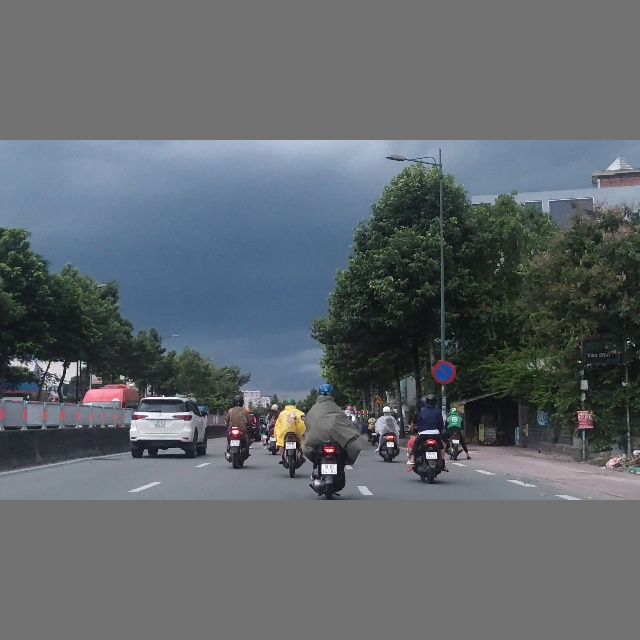P.131a: (432, 360, 455, 384)
W.201a: (374, 395, 384, 404)
